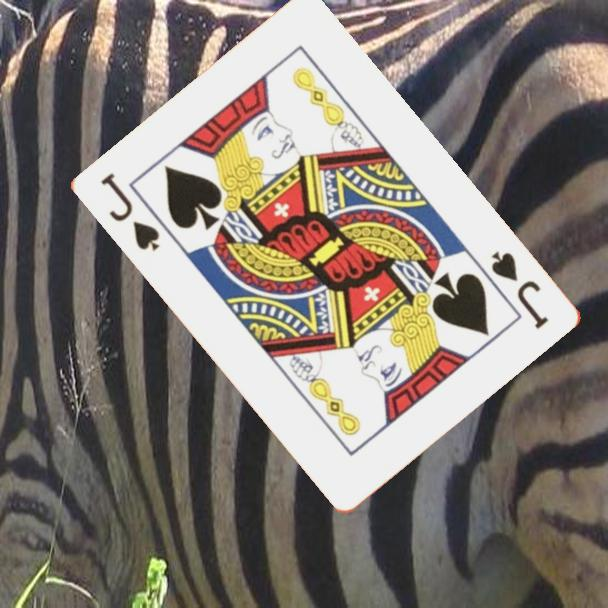s11: (98, 169, 164, 254), (488, 247, 553, 332)
